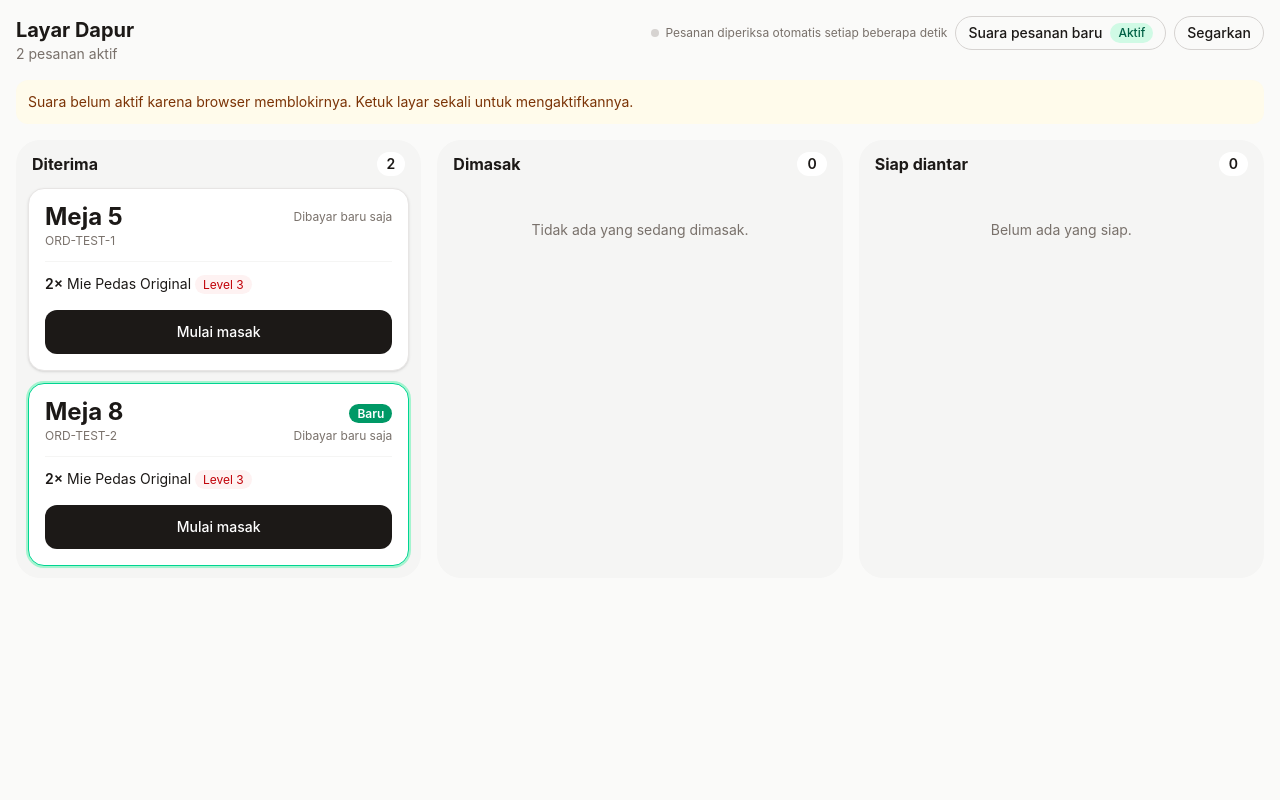
Scenario: papan dapur: suara › menampilkan petunjuk jika browser memblokir suara, dan hilang setelah layar disentuh
Check: the text "Meja 5" is shown, box [45,205,123,229]
Check: the text "Suara belum aktif karena browser" is shown, box [28,93,633,110]
What coordinates should you click on to do the following:
click the element that starts with "Layar Dapur"
I would click on:
 (640, 297)
Its box is [0,0,1279,594].
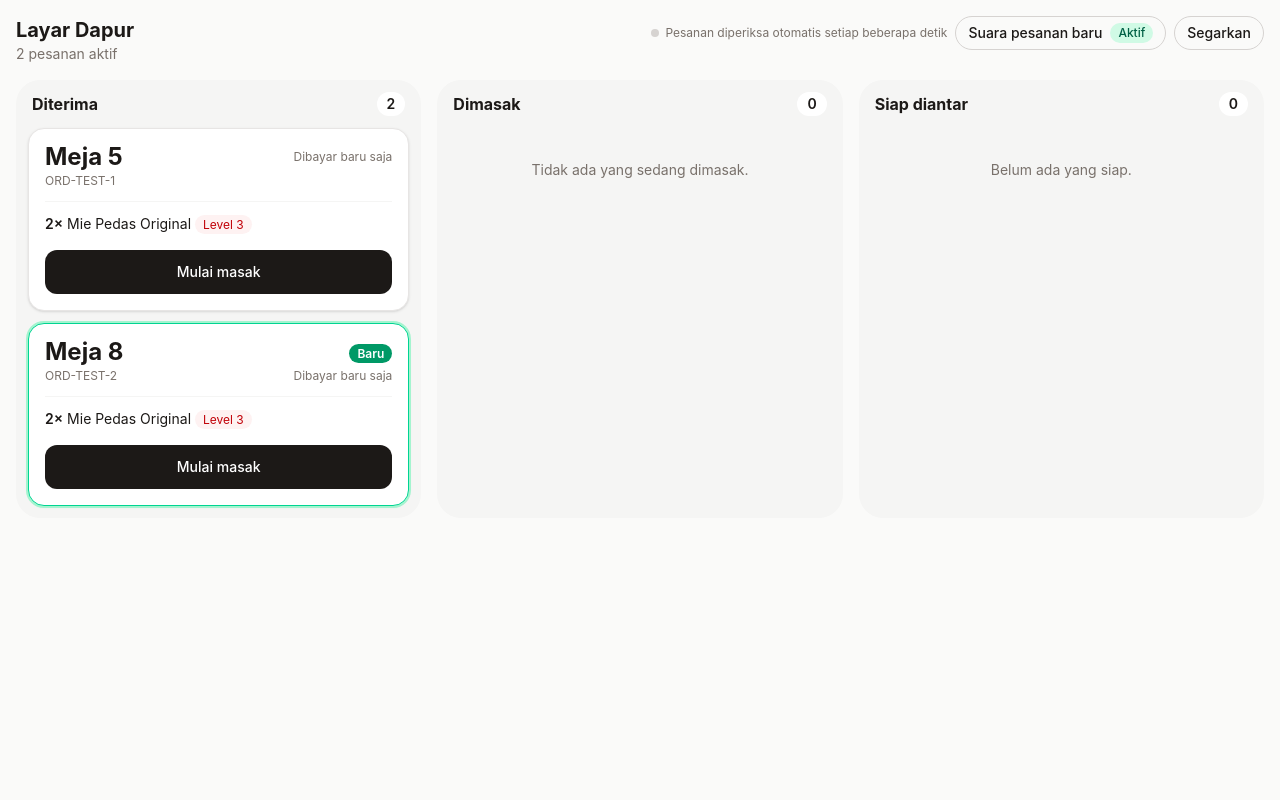
Check: the text "Suara belum aktif karena browser" is gone
